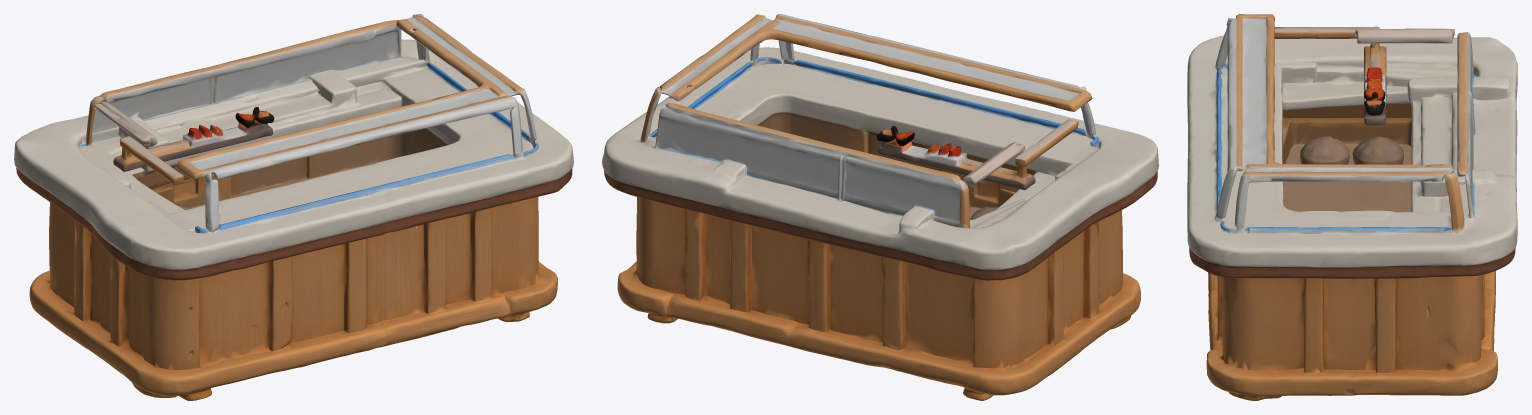
The model's file is sushi-prep-bar-v3.glb.
3 views of the same model, side by side, from view 1: azimuth 30°, elevation 25°; view 2: azimuth 150°, elevation 25°; view 3: azimuth 270°, elevation 25° (orthographic).
Parts seen in each view (by area): view 1: tripo_node_0d1a6cb2-3d31-43cf-9d81-892bfd4f22ca; view 2: tripo_node_0d1a6cb2-3d31-43cf-9d81-892bfd4f22ca; view 3: tripo_node_0d1a6cb2-3d31-43cf-9d81-892bfd4f22ca.
Part boxes in pixels (x1=…): tripo_node_0d1a6cb2-3d31-43cf-9d81-892bfd4f22ca: x1=14, y1=14, x2=573, y2=400; tripo_node_0d1a6cb2-3d31-43cf-9d81-892bfd4f22ca: x1=602, y1=14, x2=1158, y2=400; tripo_node_0d1a6cb2-3d31-43cf-9d81-892bfd4f22ca: x1=1187, y1=14, x2=1517, y2=400.
Size of the model in its own units: 1 by 0.4673 by 0.6509.
Materials: 1 (1 with a texture image).
